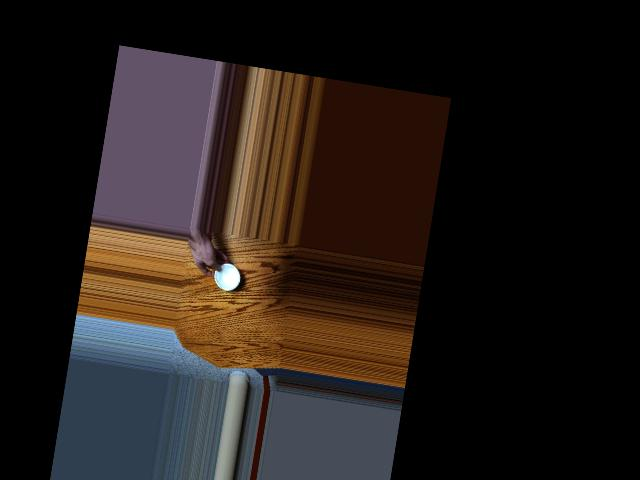cotage: (211, 259, 242, 292)
